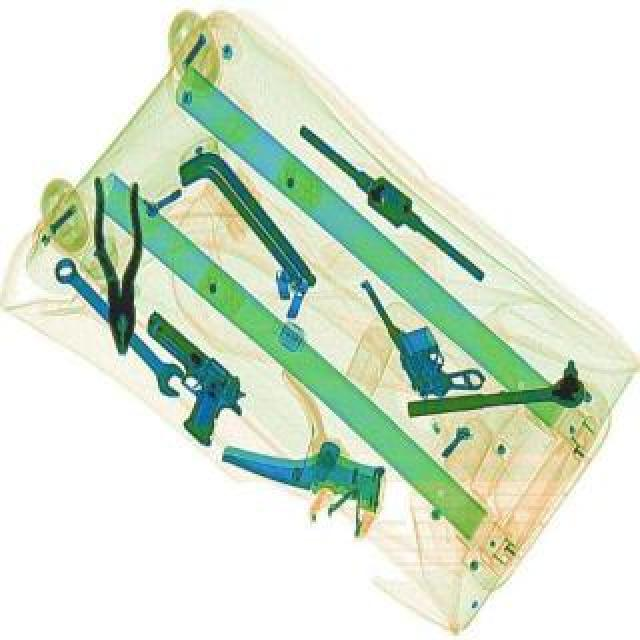gun: (102, 308, 260, 448), (358, 252, 488, 410)
scissors: (42, 250, 194, 400)
wrench: (90, 172, 146, 352)
